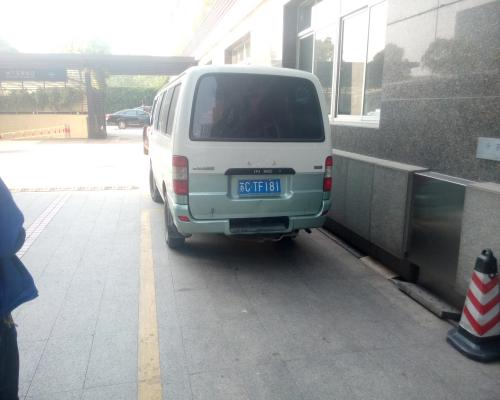Carplate: (234, 176, 285, 198)
